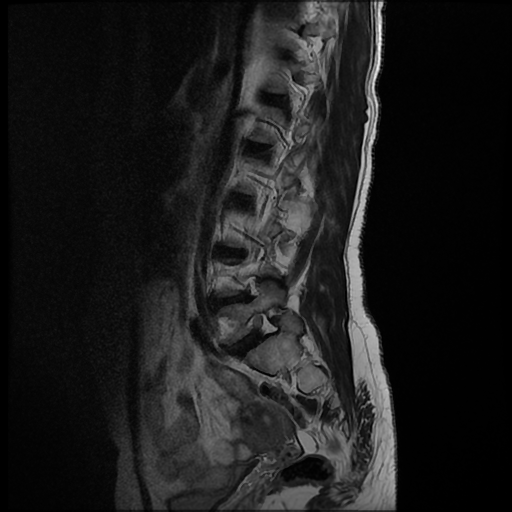RFS0: (239, 304, 283, 352)
